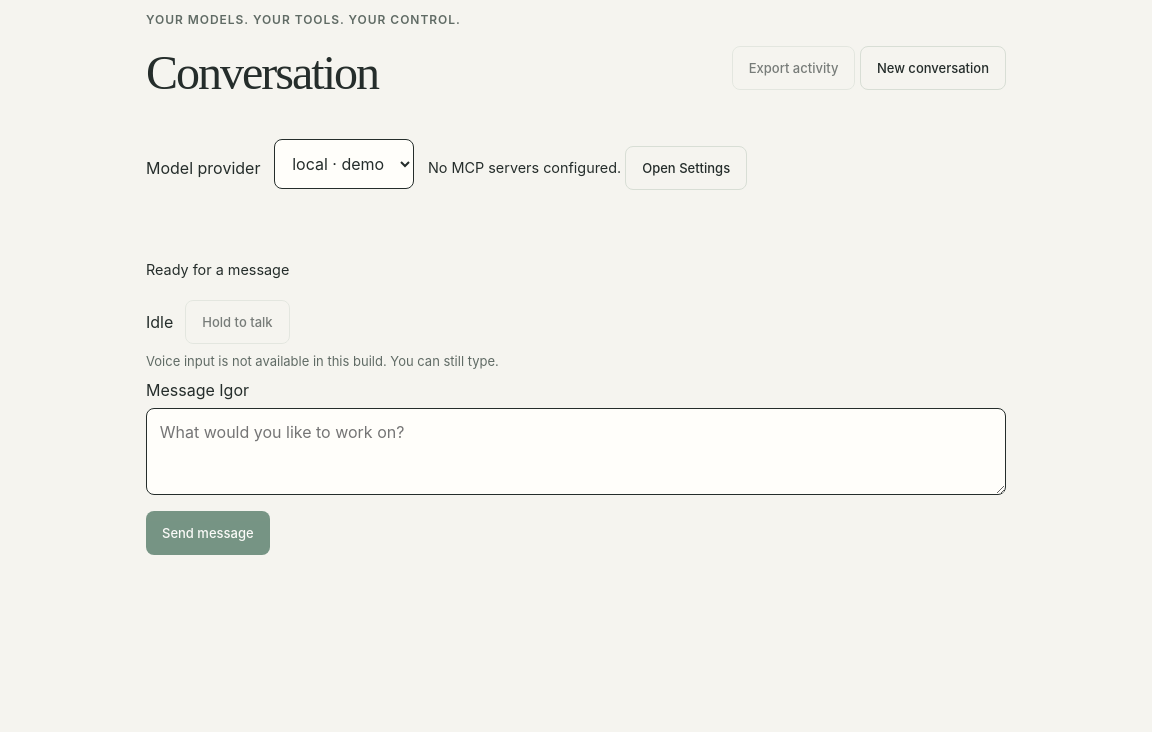
Test: keeps cancellation available and reports incomplete outcomes
Step 1. Type "Hello" into the text box with id "message" → (576, 452), box left=146, top=408, right=1006, bottom=495
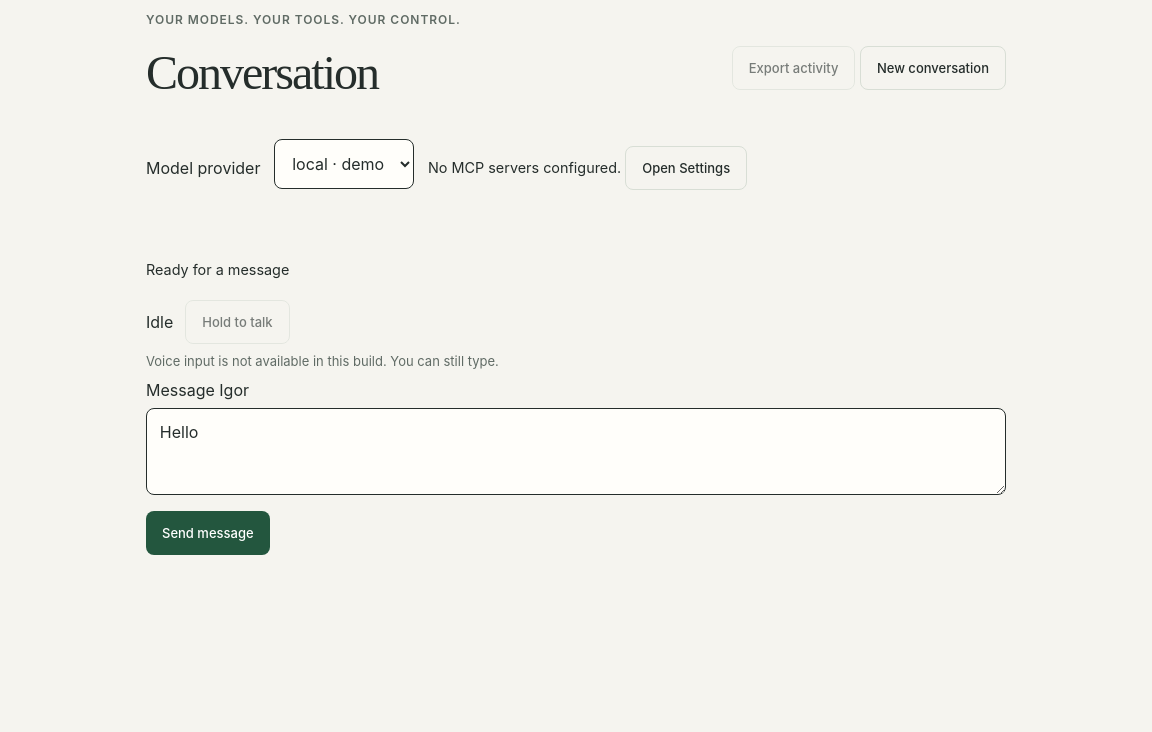
Step 2. Submit the form, box left=146, top=380, right=1006, bottom=555
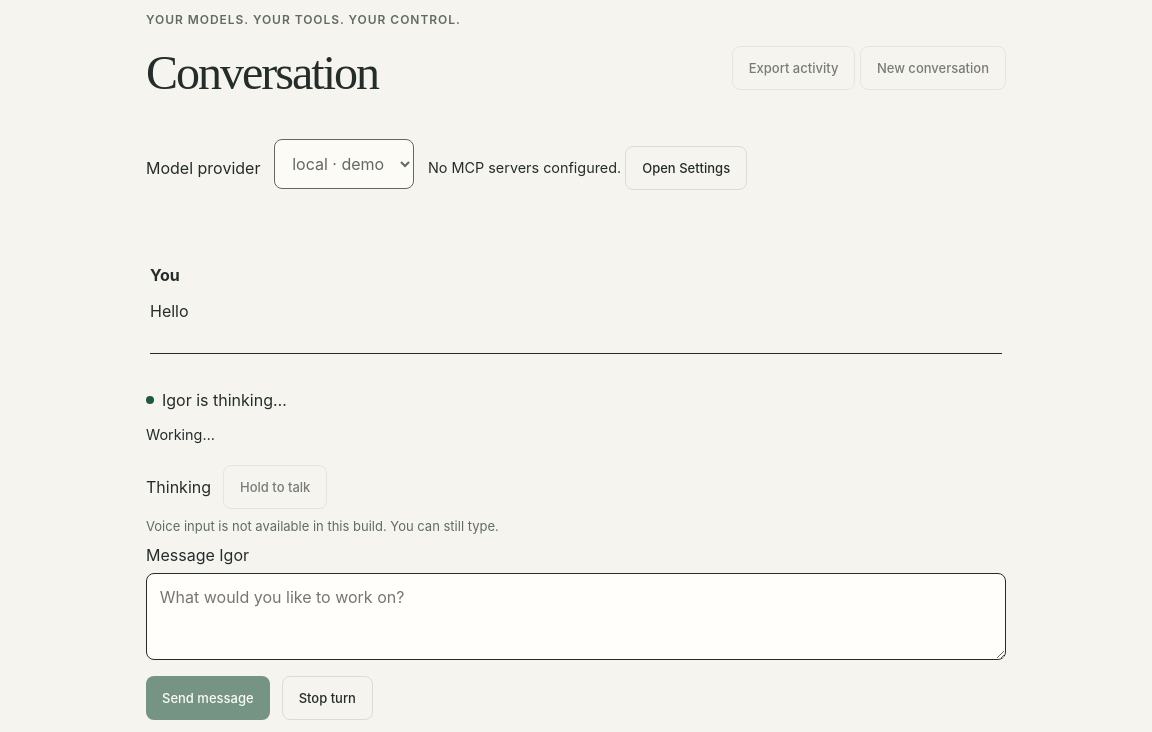
Check: the dropdown labelled "Model provider" is disabled, box left=274, top=139, right=414, bottom=189
Step 3. Click the button "Stop turn" → (327, 698), box left=282, top=676, right=373, bottom=720
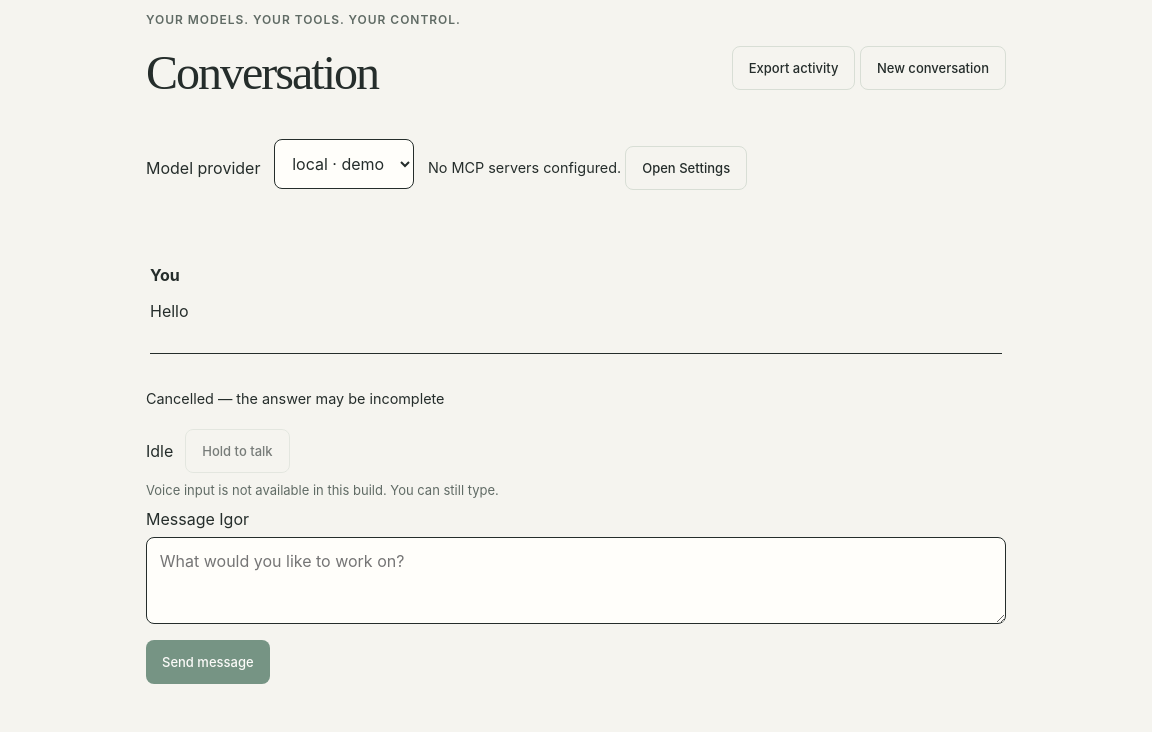
Check: the text "answer may be incomplete" is shown, box left=146, top=390, right=444, bottom=407
